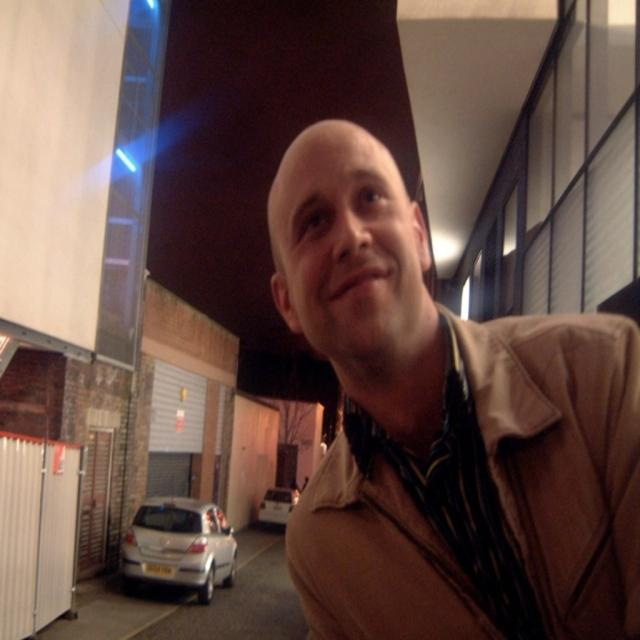car: (99, 489, 234, 605)
